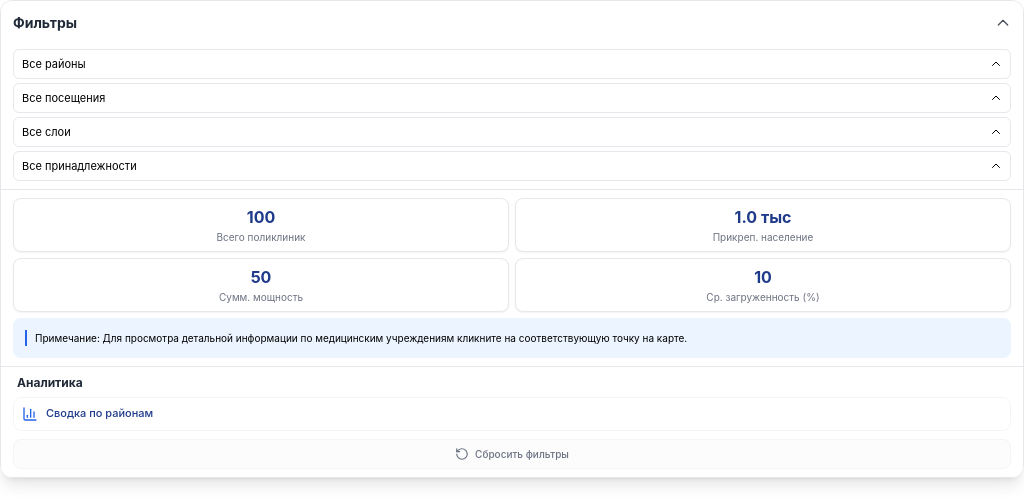
Scenario: MapFilter Component › открывает выпадающий список районов при клике
Click the text "Все районы" at (56, 64), box 22,56 -> 90,72
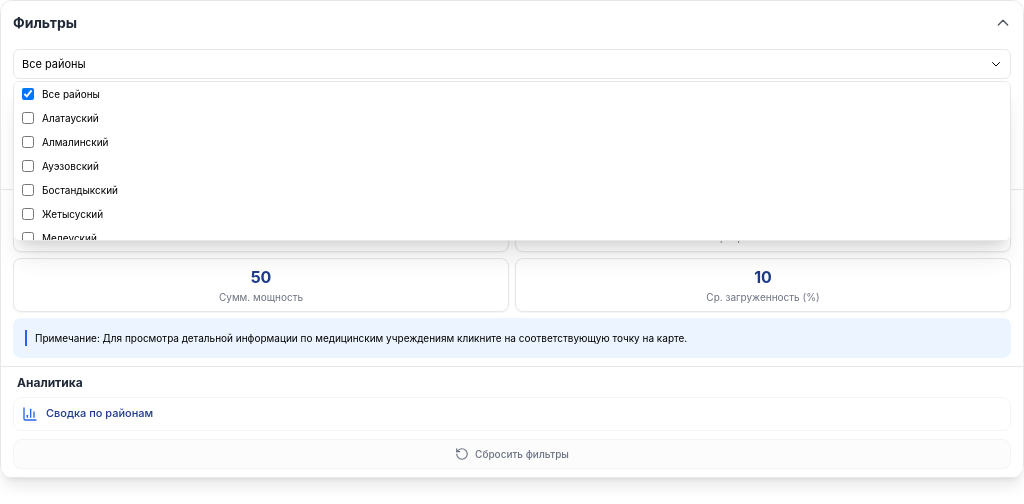
Result: the checkbox labelled "Алатауский" is shown at 22,112 -> 34,124
